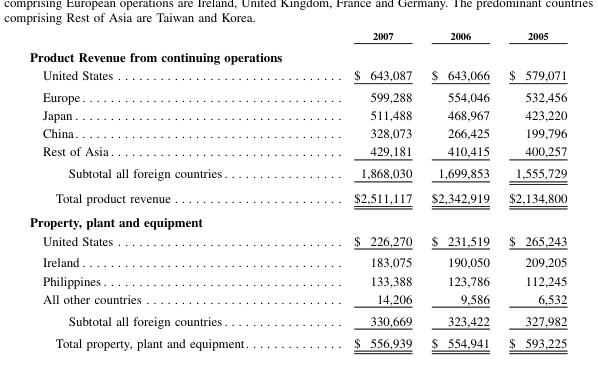table: (28, 29, 566, 349)
table column: (28, 29, 300, 349), (300, 29, 421, 349), (421, 29, 498, 349), (498, 29, 566, 349)
table column header: (28, 29, 566, 45)
table projected row header: (28, 209, 566, 231), (28, 45, 566, 65)
table row: (28, 161, 566, 185), (28, 185, 566, 209), (28, 209, 566, 231), (28, 309, 566, 331), (28, 45, 566, 65), (28, 65, 566, 85), (28, 85, 566, 105), (28, 141, 566, 161), (28, 231, 566, 251), (28, 251, 566, 271), (28, 289, 566, 309), (28, 105, 566, 123), (28, 123, 566, 141), (28, 271, 566, 289), (28, 331, 566, 349), (28, 29, 566, 45)
